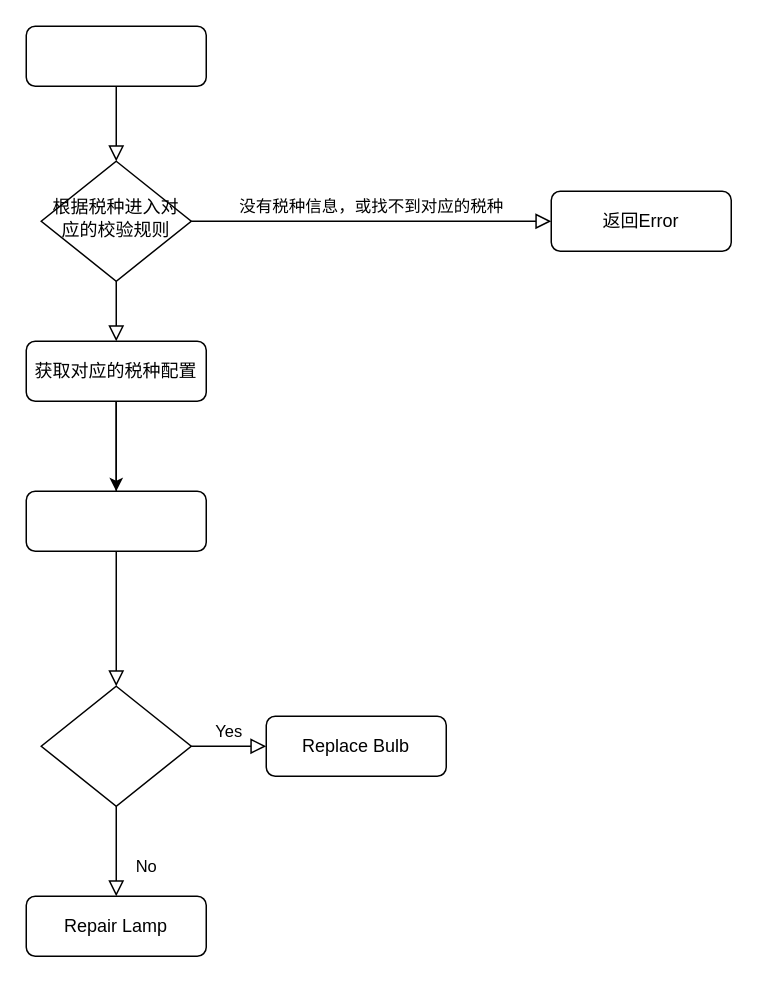
Some shapes in this 758 by 983 pixel diagram are drawn without their labels. The box of each missing label's shape, as (x1, y1, x2, y2) in pixels:
Bulb burned out?: (40, 685, 191, 806)
input-data: (25, 25, 206, 86)
结合输入报文和税种配置拼装校验报文: (25, 490, 206, 551)
